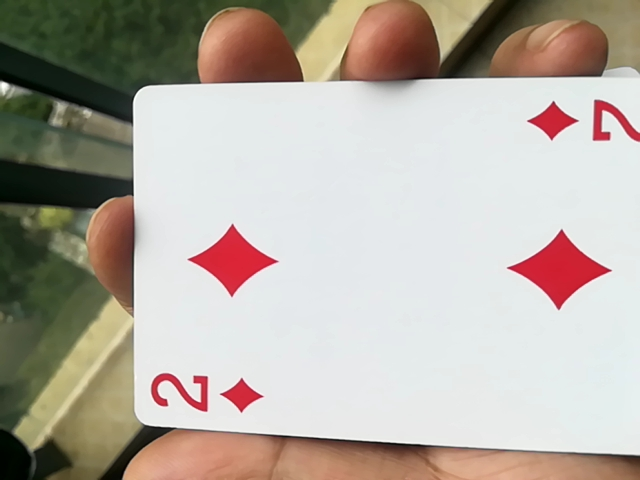fk 2: (119, 89, 636, 465)
